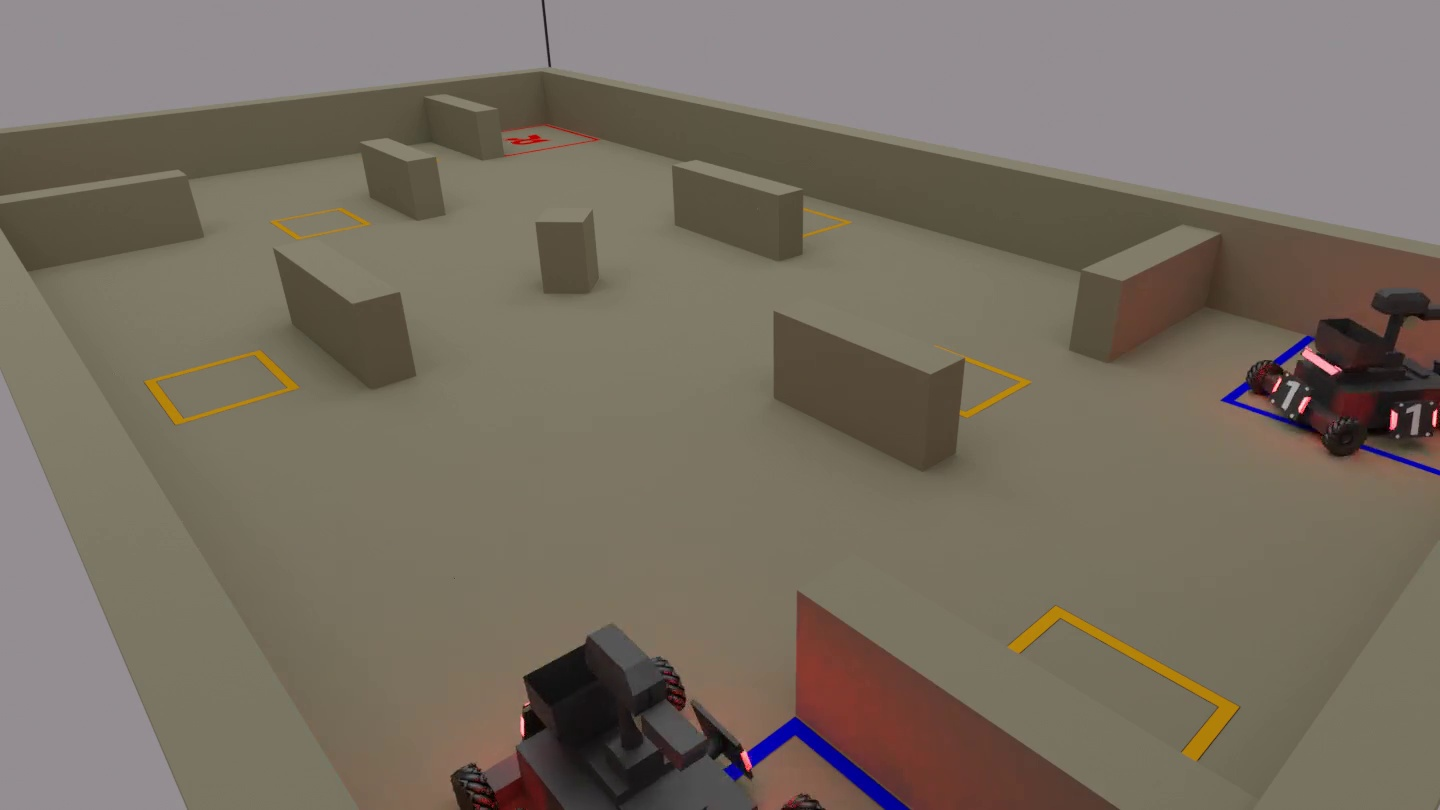Bot 1: (1229, 269, 1440, 461)
Bot 2: (423, 620, 825, 810)
